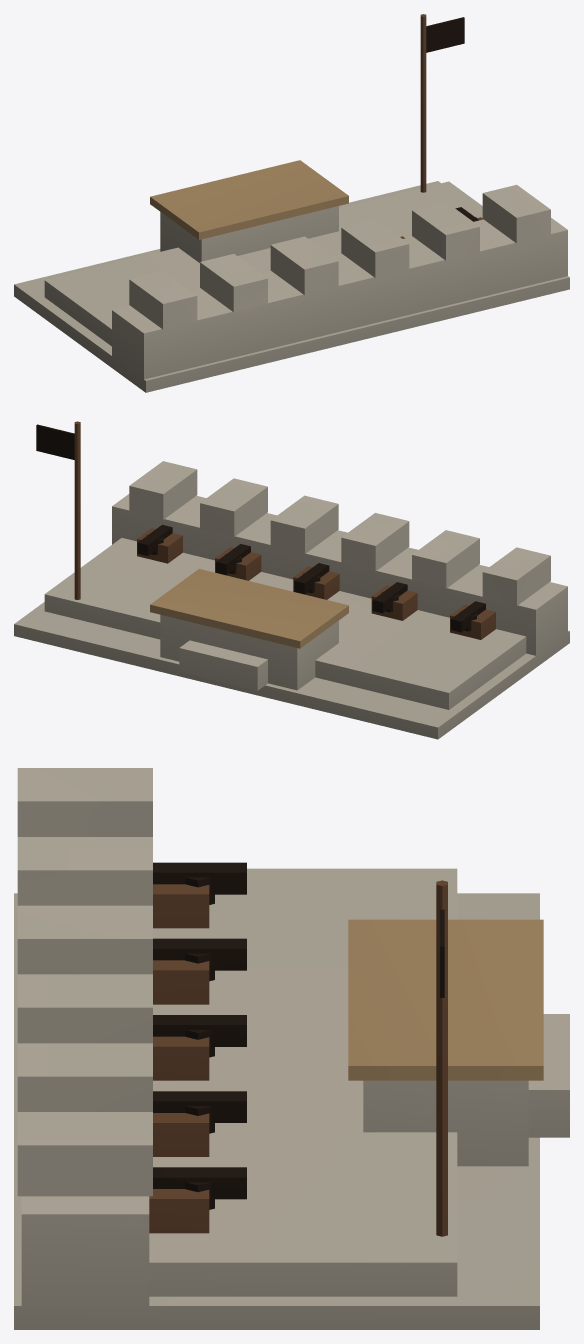
Rendered from republic_battery_lod0.glb.
The picture shows the model from 3 angles, top to bottom: view 1: azimuth 30°, elevation 25°; view 2: azimuth 150°, elevation 25°; view 3: azimuth 270°, elevation 25°; orthographic projection. The views are drawn at different scales.
Parts seen in each view (by area): view 1: GEO-Arch_republic_battery_LOD0; view 2: GEO-Arch_republic_battery_LOD0; view 3: GEO-Arch_republic_battery_LOD0.
Boxes of the visible parts, <box> form: GEO-Arch_republic_battery_LOD0: <box>14,14,569,392</box>; GEO-Arch_republic_battery_LOD0: <box>14,421,569,739</box>; GEO-Arch_republic_battery_LOD0: <box>14,768,569,1329</box>.
Size of the model in its own units: 13.05 by 6 by 7.4.
